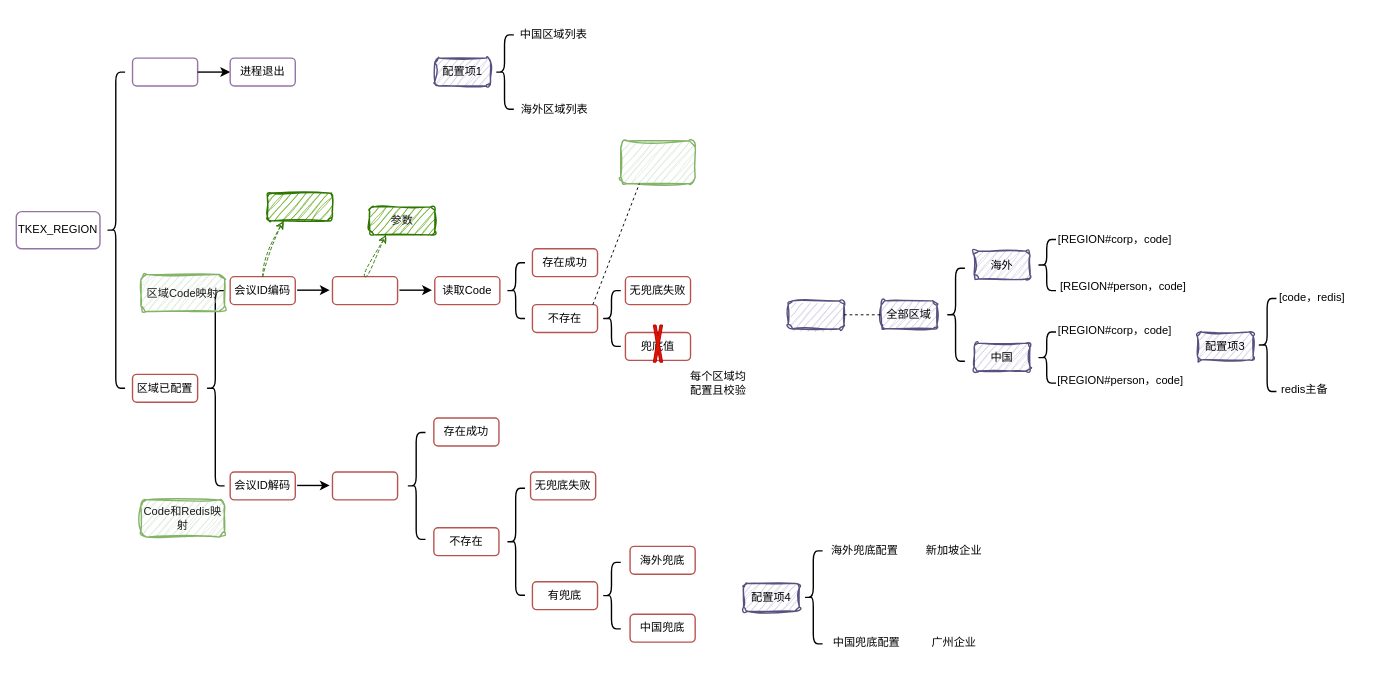
This 1388x677 diagram has some shape labels left out. Each missing label, with the centre of its shape:
上海或北京的workload: the point at 657,162
企业/个人: the point at 364,290
区域未配置: the point at 164,71
根据code查找redis: the point at 364,485
配置项2: the point at 815,314
预定会议: the point at 299,206
